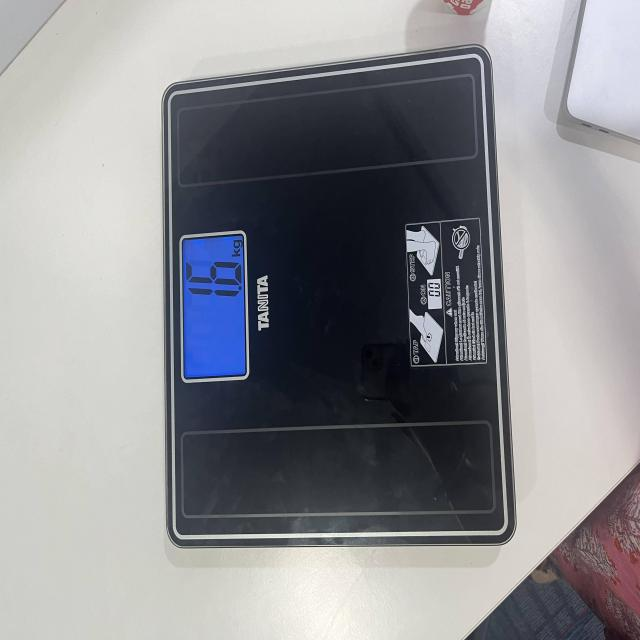ws: (156, 46, 519, 574)
